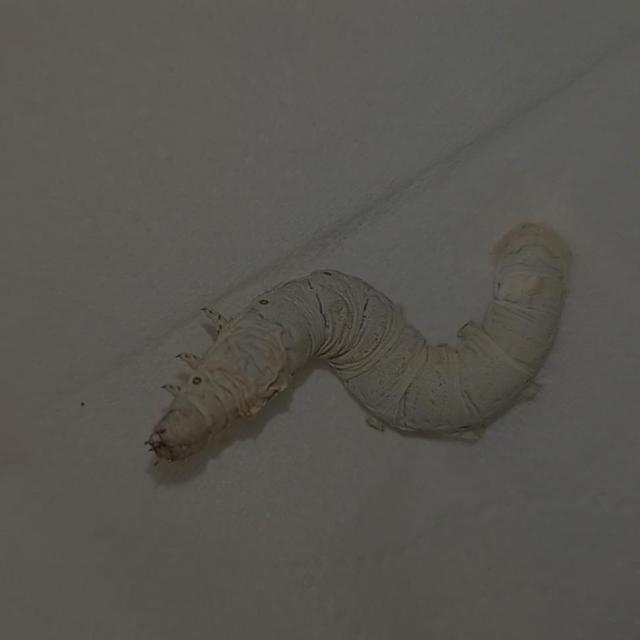Healthy: (137, 212, 574, 468)
